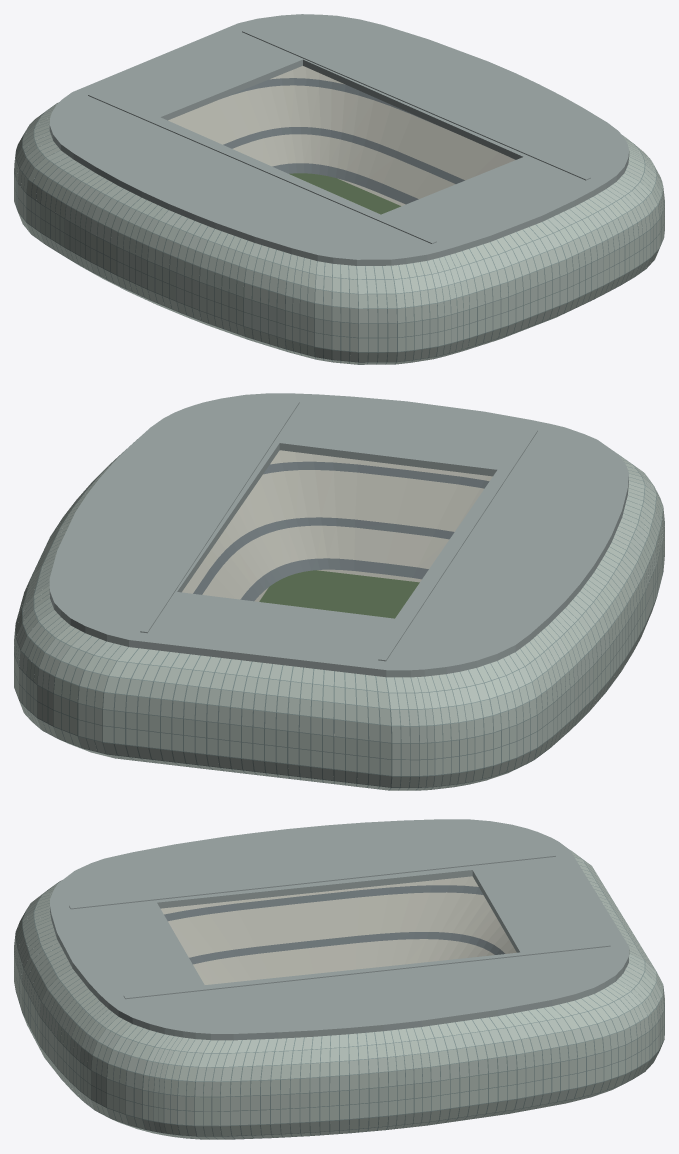
The model's file is stade-pierre-mauroy-near.glb.
The picture shows the model from 3 angles, top to bottom: view 1: azimuth 30°, elevation 25°; view 2: azimuth 150°, elevation 25°; view 3: azimuth 270°, elevation 25°; orthographic projection. The views are drawn at different scales.
Visible parts, largest first — view 1: stade-pierre-mauroy-0-roof, stade-pierre-mauroy-0-shell, stade-pierre-mauroy-0-concrete, stade-pierre-mauroy-0-seam, stade-pierre-mauroy-0-seat, stade-pierre-mauroy-0-pitch; view 2: stade-pierre-mauroy-0-roof, stade-pierre-mauroy-0-shell, stade-pierre-mauroy-0-concrete, stade-pierre-mauroy-0-seam, stade-pierre-mauroy-0-seat, stade-pierre-mauroy-0-pitch; view 3: stade-pierre-mauroy-0-roof, stade-pierre-mauroy-0-shell, stade-pierre-mauroy-0-concrete, stade-pierre-mauroy-0-seam, stade-pierre-mauroy-0-seat.
Part boxes in pixels (x1,y1,x2,y2): stade-pierre-mauroy-0-roof: [49, 14, 629, 265]; stade-pierre-mauroy-0-shell: [14, 102, 664, 364]; stade-pierre-mauroy-0-concrete: [168, 66, 515, 206]; stade-pierre-mauroy-0-seam: [14, 103, 664, 364]; stade-pierre-mauroy-0-seat: [223, 78, 515, 204]; stade-pierre-mauroy-0-pitch: [289, 173, 400, 214]; stade-pierre-mauroy-0-roof: [49, 393, 628, 677]; stade-pierre-mauroy-0-shell: [14, 452, 664, 790]; stade-pierre-mauroy-0-concrete: [182, 450, 492, 735]; stade-pierre-mauroy-0-seam: [14, 439, 664, 790]; stade-pierre-mauroy-0-seat: [193, 461, 489, 601]; stade-pierre-mauroy-0-pitch: [259, 570, 419, 618]; stade-pierre-mauroy-0-roof: [50, 819, 629, 1040]; stade-pierre-mauroy-0-shell: [14, 850, 664, 1139]; stade-pierre-mauroy-0-concrete: [161, 876, 516, 984]; stade-pierre-mauroy-0-seam: [14, 850, 664, 1139]; stade-pierre-mauroy-0-seat: [164, 885, 505, 964].
Size of the model in its own units: 213 by 41 by 243.
